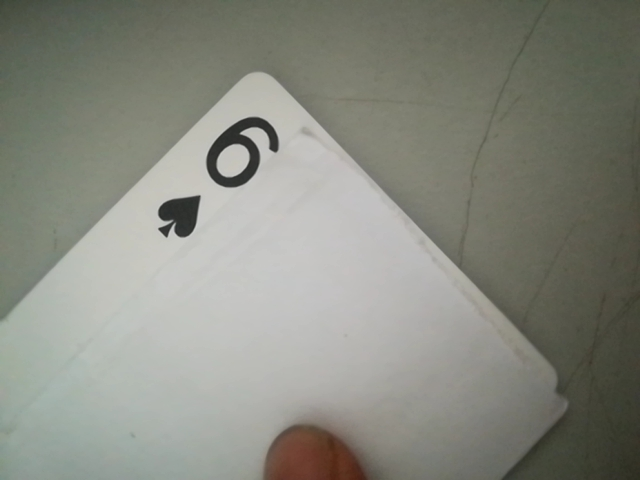ht 6: (147, 97, 305, 244)
